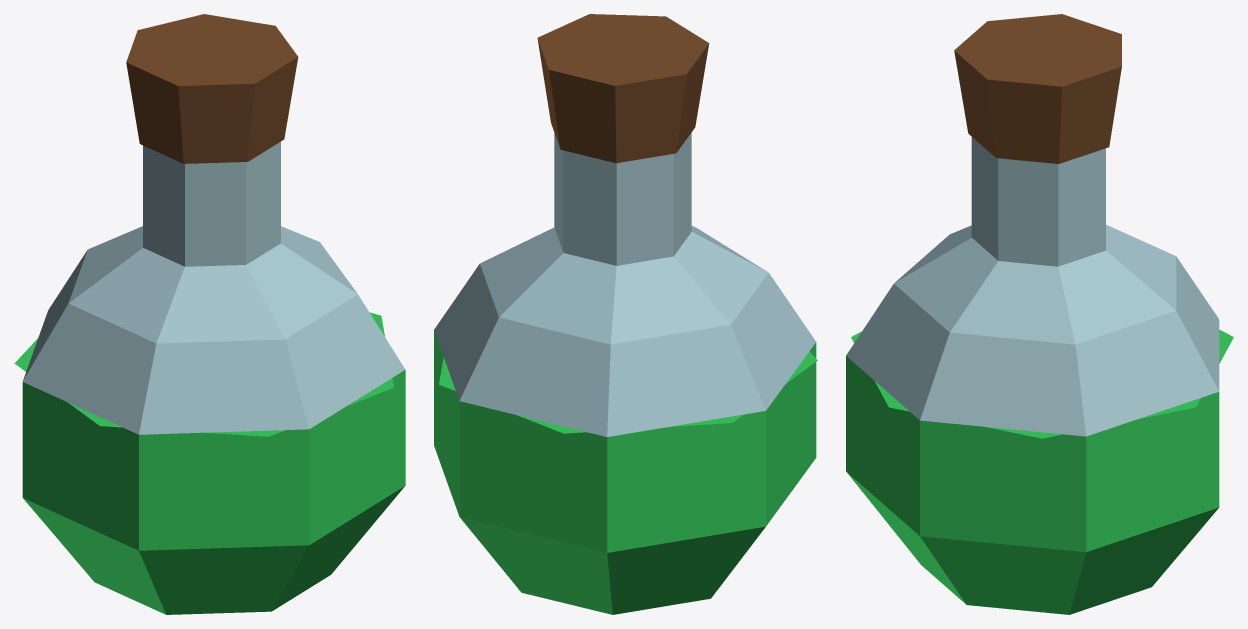
The model's file is potion-bottle-b28245.glb.
3 renders of one model, left to right at view 1: azimuth 30°, elevation 25°; view 2: azimuth 150°, elevation 25°; view 3: azimuth 270°, elevation 25°, orthographic.
Bounding box in the file's own units: 0.169 × 0.2646 × 0.169.
